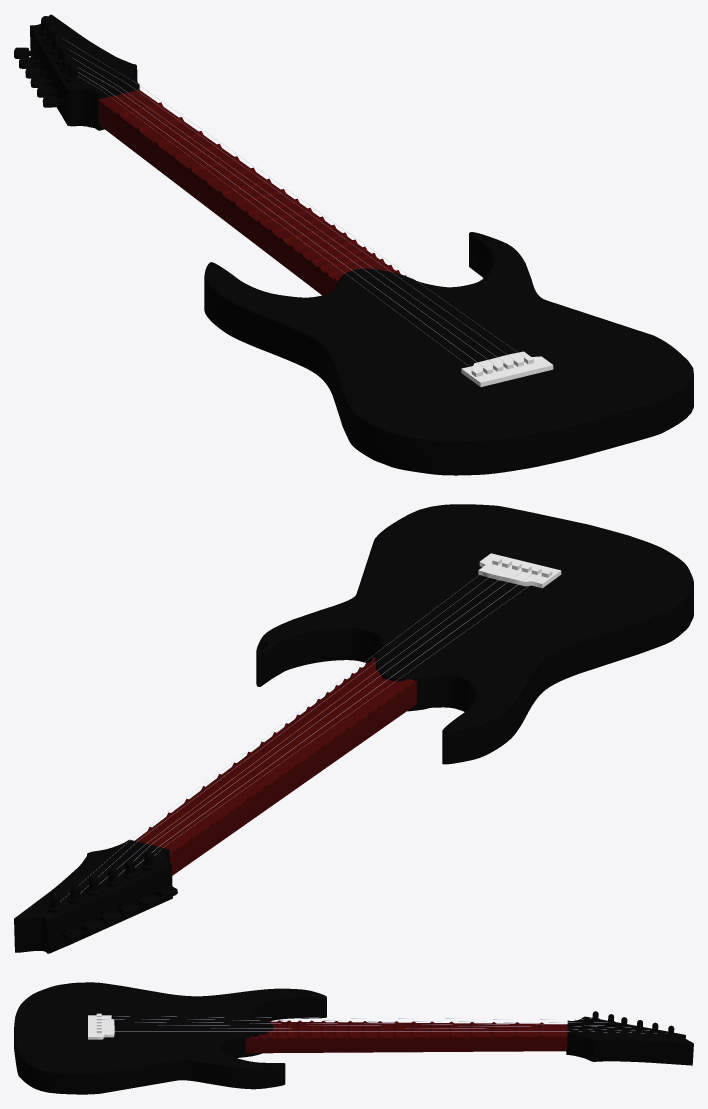
The model's file is GuitarreElectrique.fbx.
3 views of the same model, one above another, from view 1: azimuth 30°, elevation 25°; view 2: azimuth 150°, elevation 25°; view 3: azimuth 270°, elevation 25° (orthographic). The views are drawn at different scales.
Visible parts, largest first — view 1: Line002, Box001, Line003, Box002; view 2: Line002, Box001, Line003, Box002; view 3: Line002, Box001, Line003, Box002, Line010, Line006, Line007, Line008.
Part boxes in pixels (<box>): Line002: <box>204,232,693,475</box>; Box001: <box>98,89,406,295</box>; Line003: <box>14,14,139,130</box>; Box002: <box>461,351,553,386</box>; Line002: <box>256,504,693,764</box>; Box001: <box>135,657,416,875</box>; Line003: <box>14,839,177,953</box>; Box002: <box>478,553,561,588</box>; Line002: <box>14,982,326,1094</box>; Box001: <box>245,1020,567,1053</box>; Line003: <box>566,1011,693,1065</box>; Box002: <box>88,1013,114,1039</box>; Line010: <box>102,1031,667,1033</box>; Line006: <box>102,1019,607,1022</box>; Line007: <box>102,1022,603,1025</box>; Line008: <box>158,1025,630,1027</box>.
Size of the model in its own units: 36.94 by 6.85 by 116.
